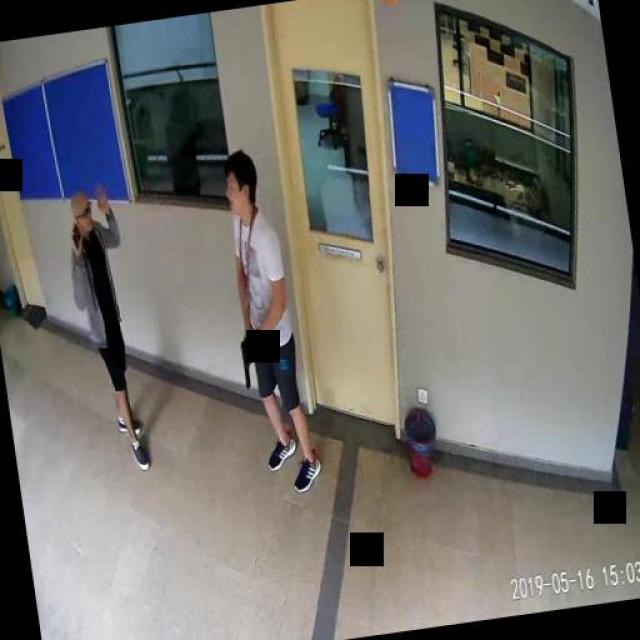gun: (238, 332, 258, 387)
